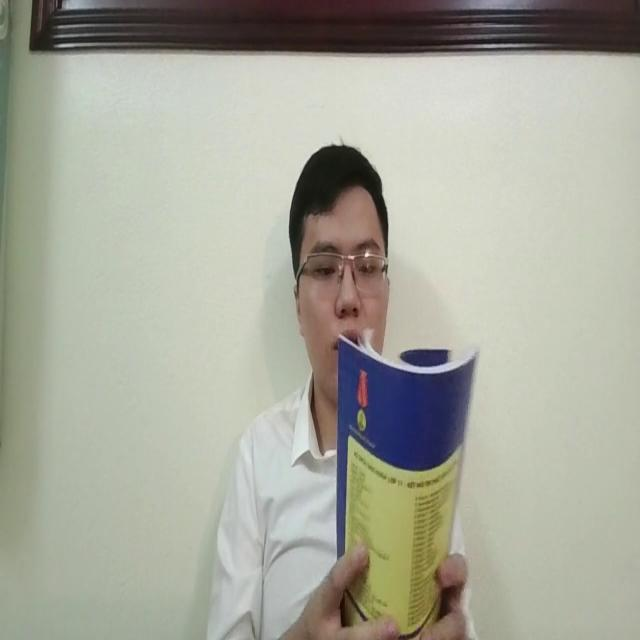book: (336, 324, 477, 630)
student: (210, 133, 391, 640)
